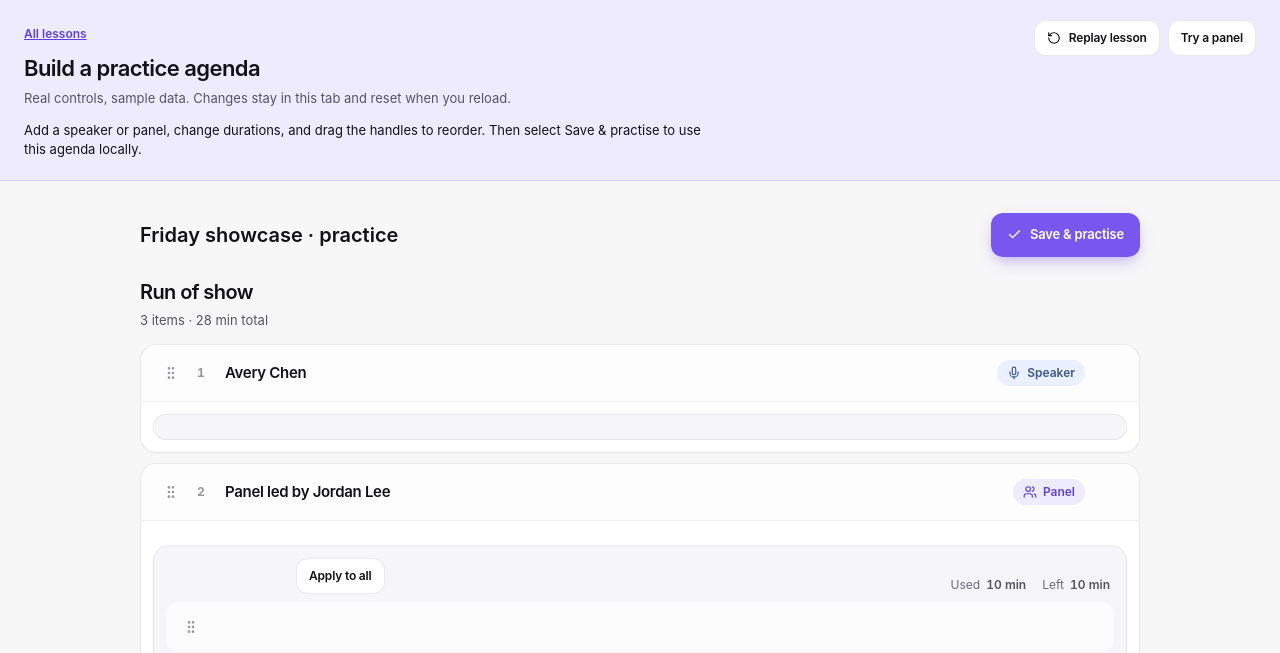
it: Timer learning area › uses the actual agenda editor without creating a remote event
Click the button "Save & practise": (1066, 234) x1=991 y1=212 x2=1140 y2=256
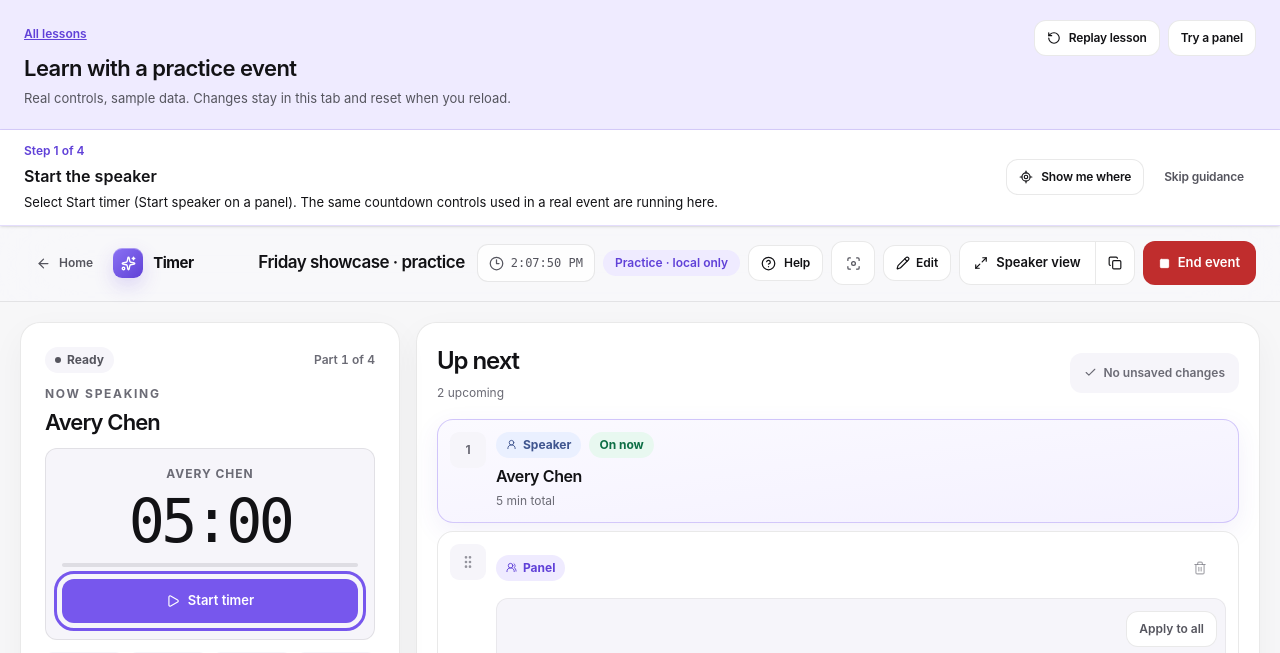
Check: the button "Start timer" is shown, box x1=62 y1=579 x2=358 y2=623
